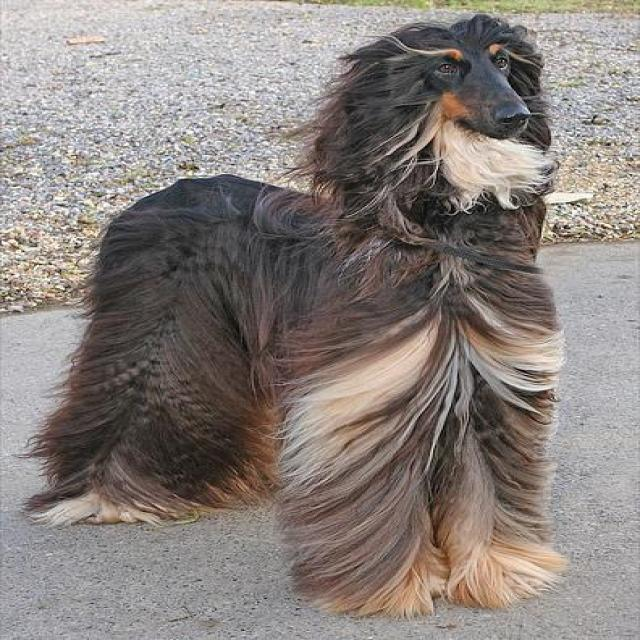afghan_hound: (28, 14, 570, 618)
